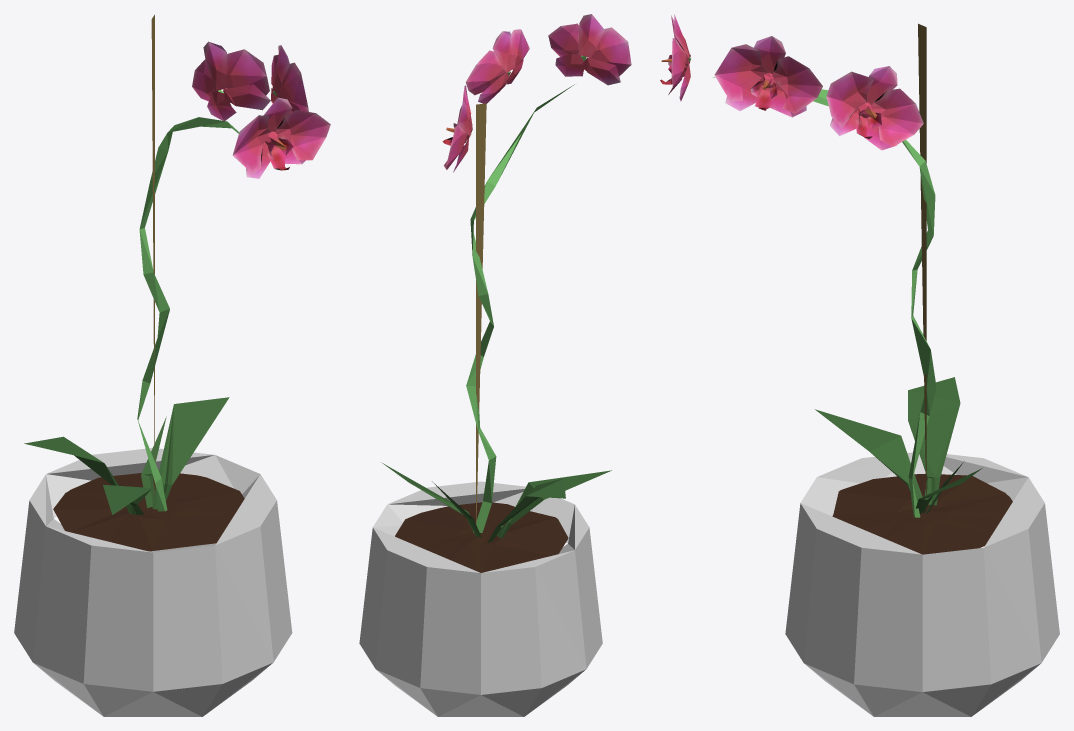
File: orchid1.glb
3 renders of one model, left to right at view 1: azimuth 30°, elevation 25°; view 2: azimuth 150°, elevation 25°; view 3: azimuth 270°, elevation 25°, orthographic. The views are drawn at different scales.
Visible parts, largest first — view 1: Node; view 2: Node; view 3: Node.
Boxes of the visible parts, bbox=[...] form: Node: bbox=[14, 14, 330, 716]; Node: bbox=[359, 14, 631, 716]; Node: bbox=[660, 14, 1059, 716].
Size of the model in its own units: 2.97 by 8 by 4.33.
6 materials, 1 textured.
